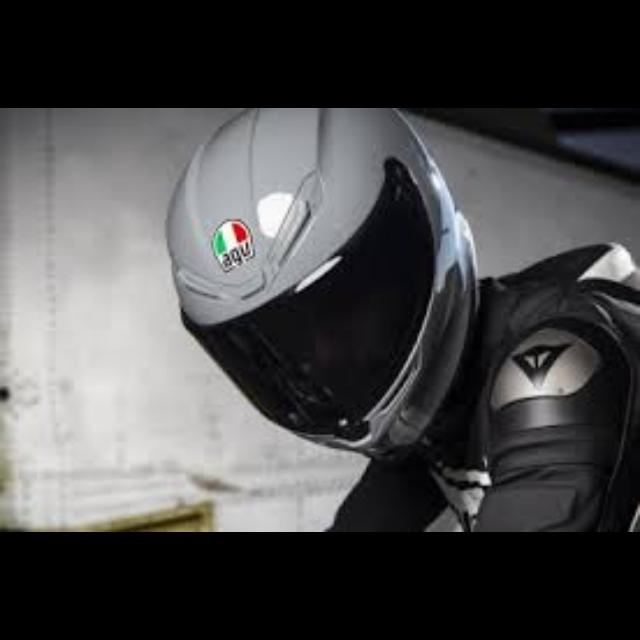motorcycle-helmets: (164, 108, 483, 466)
